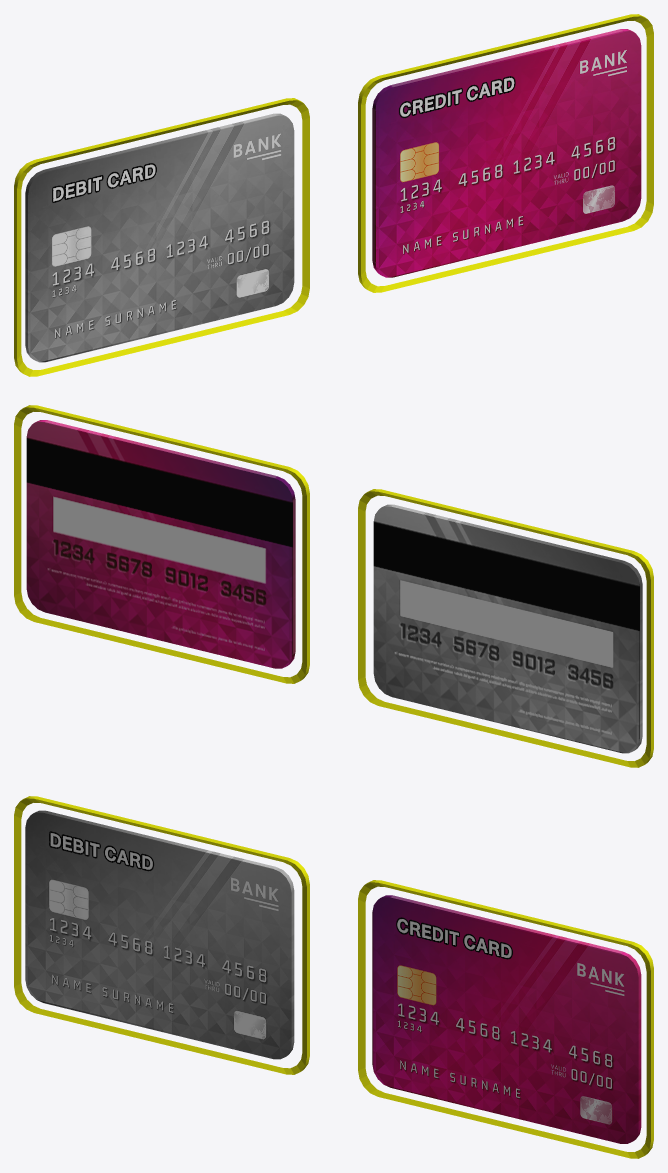
Rendered from CreditDebit.fbx.
3 views of the same model, one above another, from view 1: azimuth 30°, elevation 25°; view 2: azimuth 150°, elevation 25°; view 3: azimuth 330°, elevation 25° (orthographic).
Visible parts, largest first — view 1: pCube2, pCube1, pCube3, pCube4; view 2: pCube2, pCube1, pCube3, pCube4; view 3: pCube2, pCube1, pCube3, pCube4.
Boxes of the visible parts, x1=… form: pCube2: x1=25, y1=113, x2=294, y2=362; pCube1: x1=372, y1=29, x2=641, y2=277; pCube3: x1=358, y1=14, x2=653, y2=292; pCube4: x1=14, y1=98, x2=309, y2=376; pCube2: x1=373, y1=504, x2=642, y2=753; pCube1: x1=26, y1=420, x2=295, y2=668; pCube3: x1=14, y1=405, x2=309, y2=683; pCube4: x1=358, y1=489, x2=653, y2=767; pCube2: x1=25, y1=810, x2=294, y2=1059; pCube1: x1=372, y1=895, x2=641, y2=1143; pCube3: x1=358, y1=880, x2=653, y2=1158; pCube4: x1=14, y1=796, x2=309, y2=1074.
Size of the model in its own units: 56.73 by 18.24 by 0.4778.
Materials: 2 (1 with a texture image).
